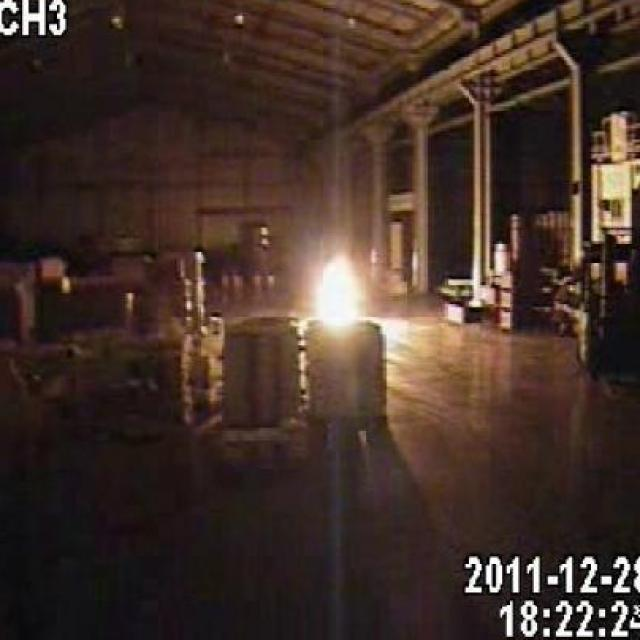smoke: (304, 243, 364, 334)
